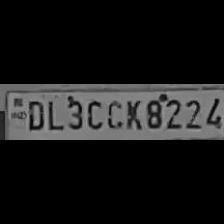2: (164, 96, 182, 130), (182, 96, 200, 130)
3: (65, 96, 83, 130)
4: (202, 94, 222, 128)
8: (142, 96, 162, 130)
C: (84, 96, 102, 130), (104, 97, 122, 131)
D: (24, 97, 43, 130)
K: (122, 97, 140, 131)
L: (44, 97, 61, 131)
